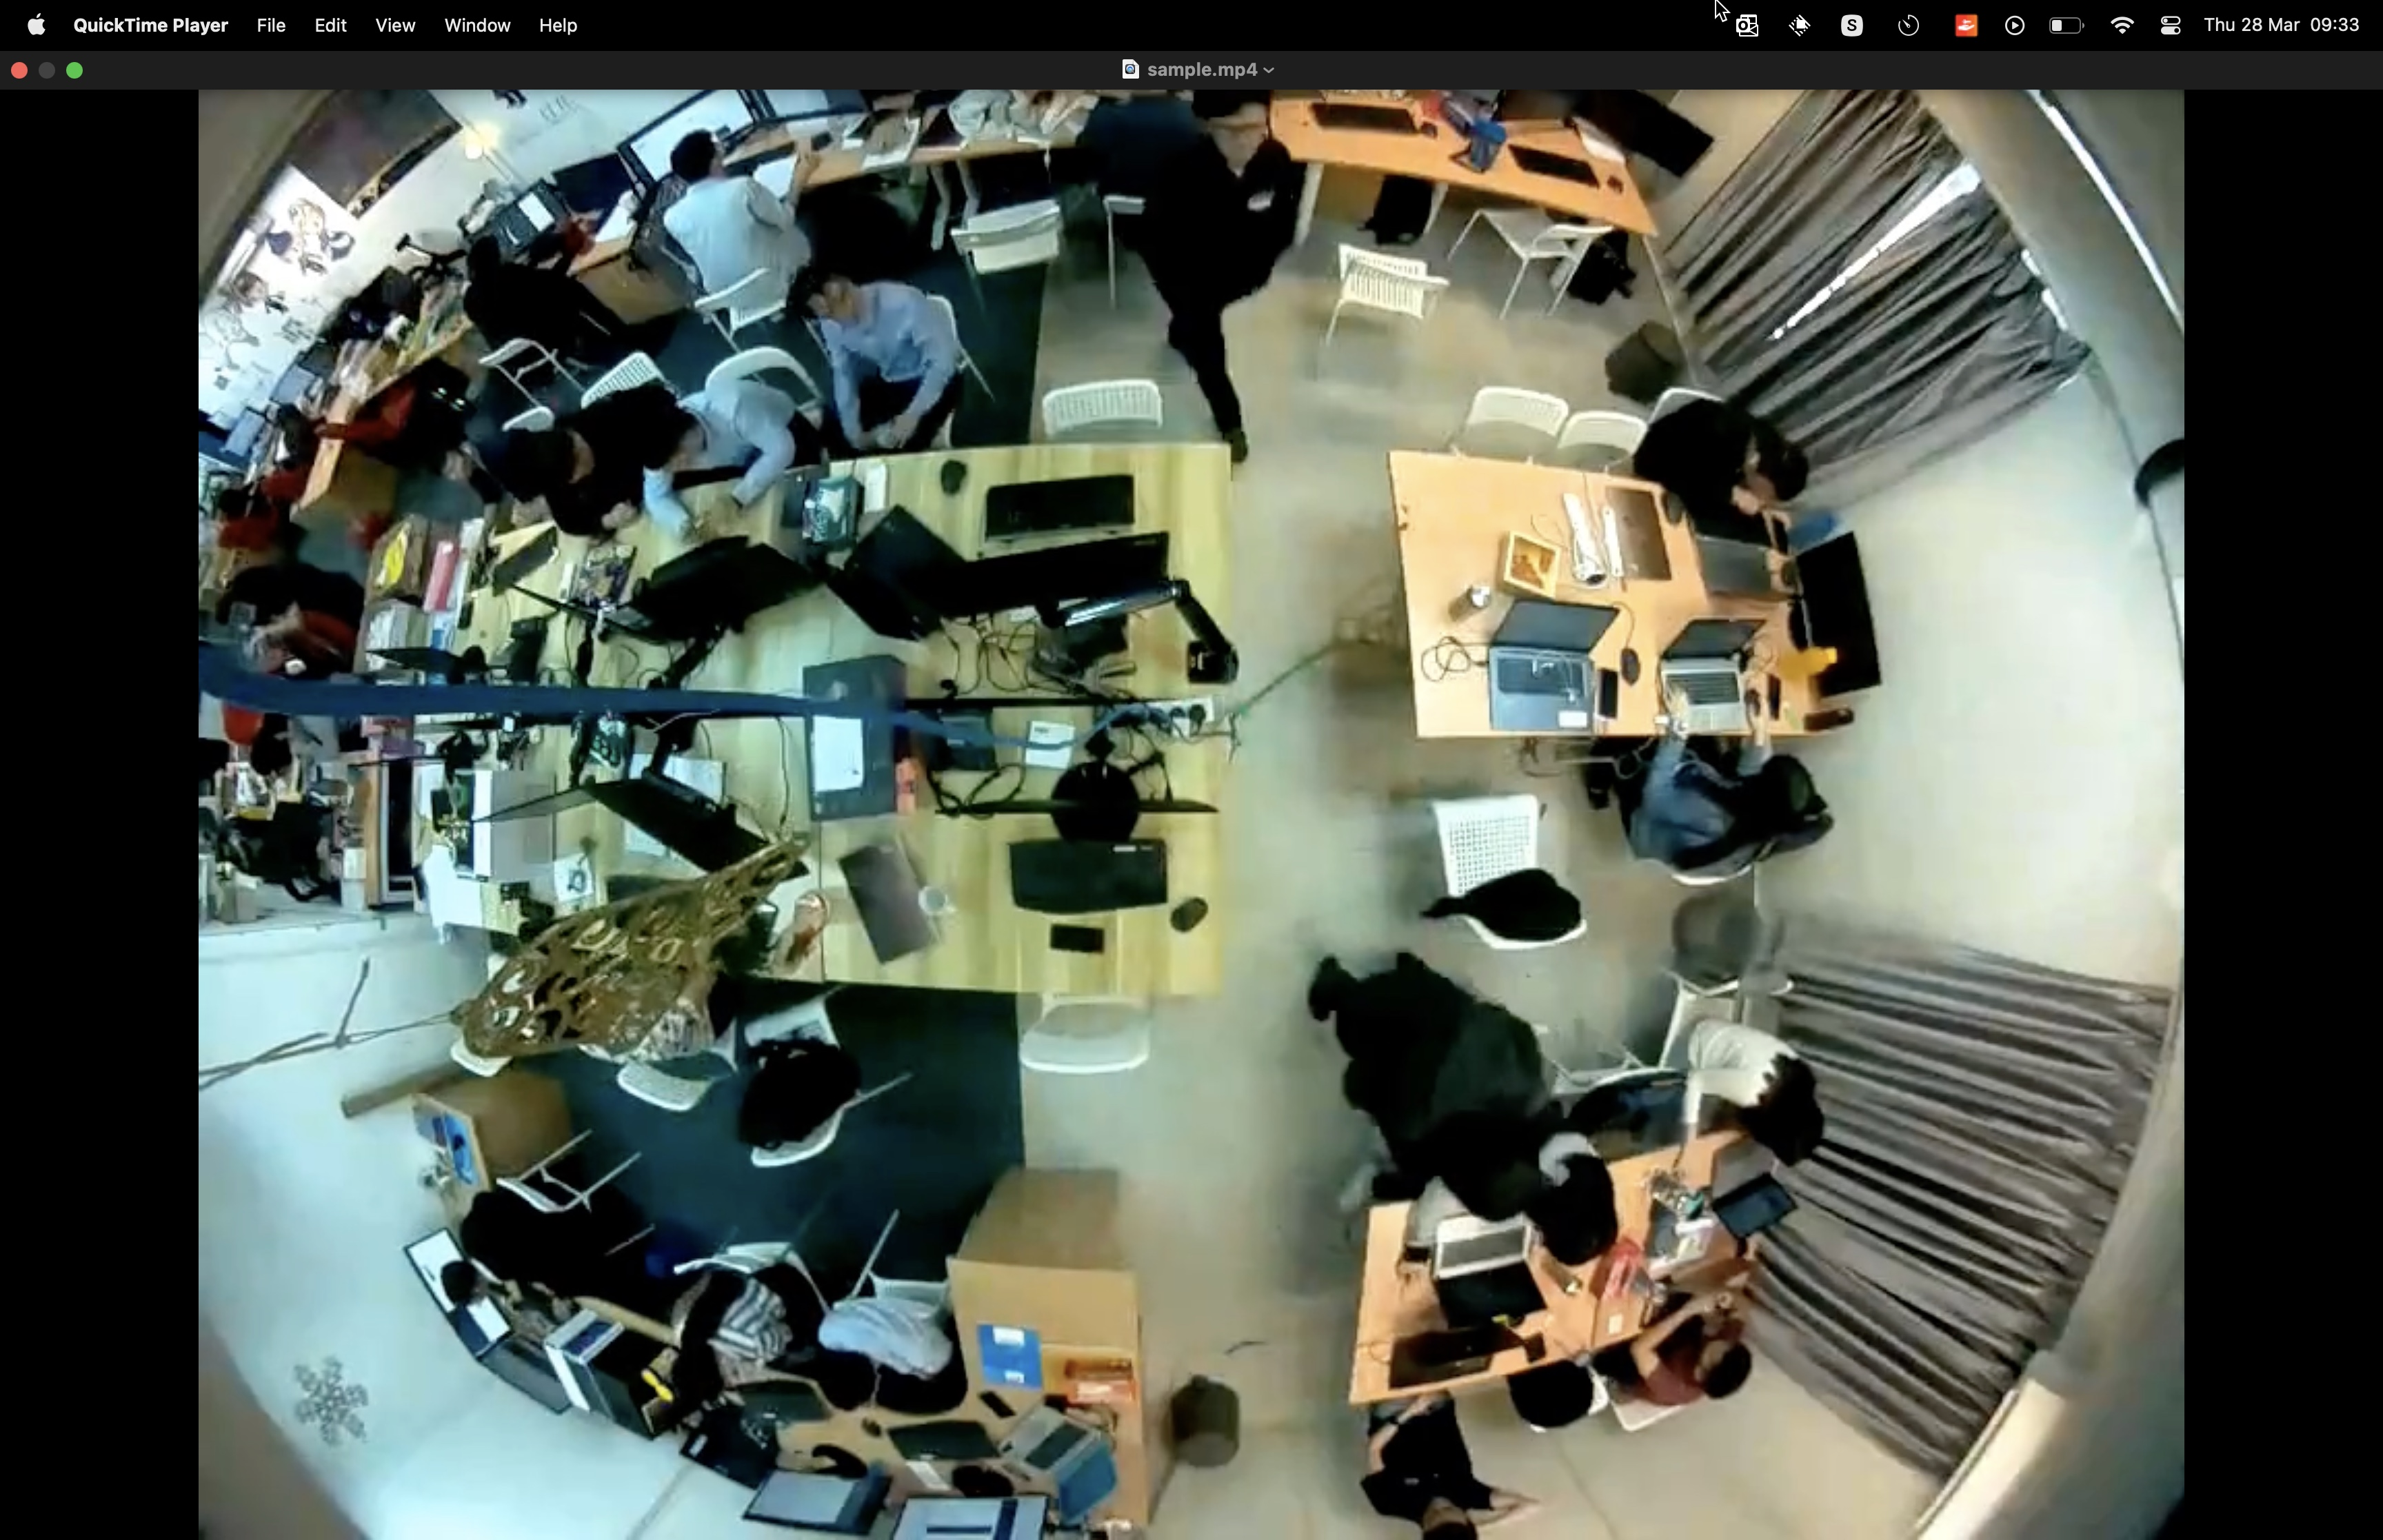Staff: (1143, 94, 1304, 465)
